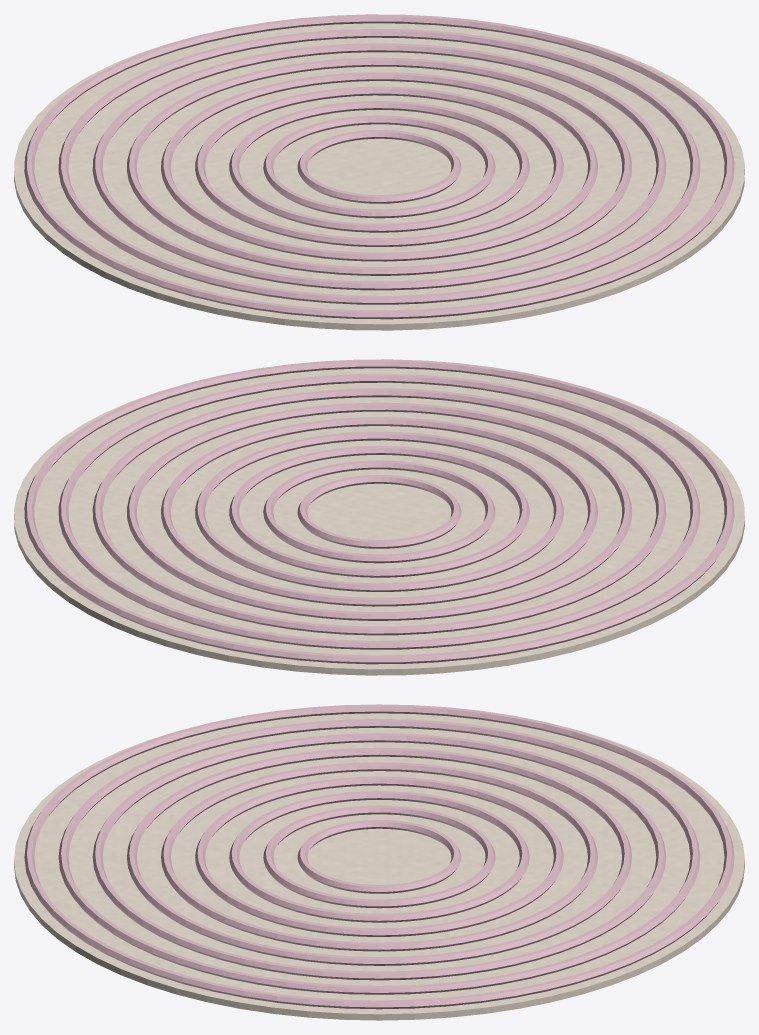
The picture shows the model from 3 angles, top to bottom: view 1: azimuth 30°, elevation 25°; view 2: azimuth 150°, elevation 25°; view 3: azimuth 270°, elevation 25°; orthographic projection.
Visible parts, largest first — view 1: rug_base_1, woven_rug_ring_10, woven_rug_ring_9, woven_rug_ring_8, woven_rug_ring_7, woven_rug_ring_6, woven_rug_ring_5, woven_rug_ring_4, woven_rug_ring_3, woven_rug_ring_2; view 2: rug_base_1, woven_rug_ring_10, woven_rug_ring_9, woven_rug_ring_8, woven_rug_ring_7, woven_rug_ring_6, woven_rug_ring_5, woven_rug_ring_4, woven_rug_ring_3, woven_rug_ring_2; view 3: rug_base_1, woven_rug_ring_10, woven_rug_ring_9, woven_rug_ring_8, woven_rug_ring_7, woven_rug_ring_6, woven_rug_ring_5, woven_rug_ring_4, woven_rug_ring_3, woven_rug_ring_2.
Boxes of the visible parts, x1=… form: rug_base_1: x1=14, y1=23, x2=744, y2=330; woven_rug_ring_10: x1=24, y1=14, x2=734, y2=319; woven_rug_ring_9: x1=58, y1=29, x2=700, y2=304; woven_rug_ring_8: x1=92, y1=43, x2=666, y2=290; woven_rug_ring_7: x1=127, y1=57, x2=631, y2=275; woven_rug_ring_6: x1=161, y1=72, x2=597, y2=261; woven_rug_ring_5: x1=195, y1=86, x2=563, y2=246; woven_rug_ring_4: x1=229, y1=101, x2=529, y2=232; woven_rug_ring_3: x1=263, y1=115, x2=495, y2=218; woven_rug_ring_2: x1=297, y1=130, x2=461, y2=203; rug_base_1: x1=14, y1=368, x2=744, y2=675; woven_rug_ring_10: x1=24, y1=359, x2=734, y2=664; woven_rug_ring_9: x1=58, y1=374, x2=700, y2=649; woven_rug_ring_8: x1=92, y1=388, x2=666, y2=635; woven_rug_ring_7: x1=127, y1=402, x2=631, y2=620; woven_rug_ring_6: x1=161, y1=417, x2=597, y2=606; woven_rug_ring_5: x1=195, y1=431, x2=563, y2=591; woven_rug_ring_4: x1=229, y1=446, x2=529, y2=577; woven_rug_ring_3: x1=263, y1=460, x2=495, y2=563; woven_rug_ring_2: x1=297, y1=475, x2=461, y2=548; rug_base_1: x1=14, y1=713, x2=744, y2=1020; woven_rug_ring_10: x1=24, y1=704, x2=734, y2=1009; woven_rug_ring_9: x1=58, y1=719, x2=700, y2=994; woven_rug_ring_8: x1=92, y1=733, x2=666, y2=980; woven_rug_ring_7: x1=127, y1=747, x2=631, y2=965; woven_rug_ring_6: x1=161, y1=762, x2=597, y2=951; woven_rug_ring_5: x1=195, y1=776, x2=563, y2=936; woven_rug_ring_4: x1=229, y1=791, x2=529, y2=922; woven_rug_ring_3: x1=263, y1=805, x2=495, y2=908; woven_rug_ring_2: x1=297, y1=820, x2=461, y2=893.
Size of the model in its own units: 1.9 by 0.0363 by 1.9.
2 materials, 1 textured.
